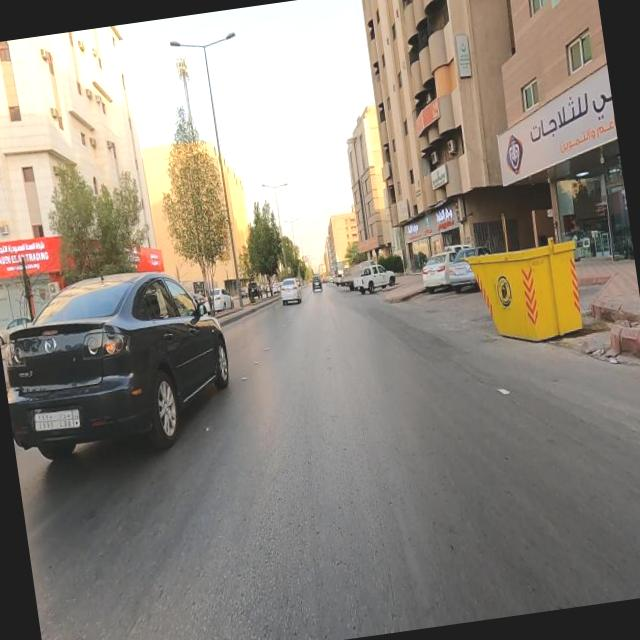debris: (387, 161, 640, 434)
